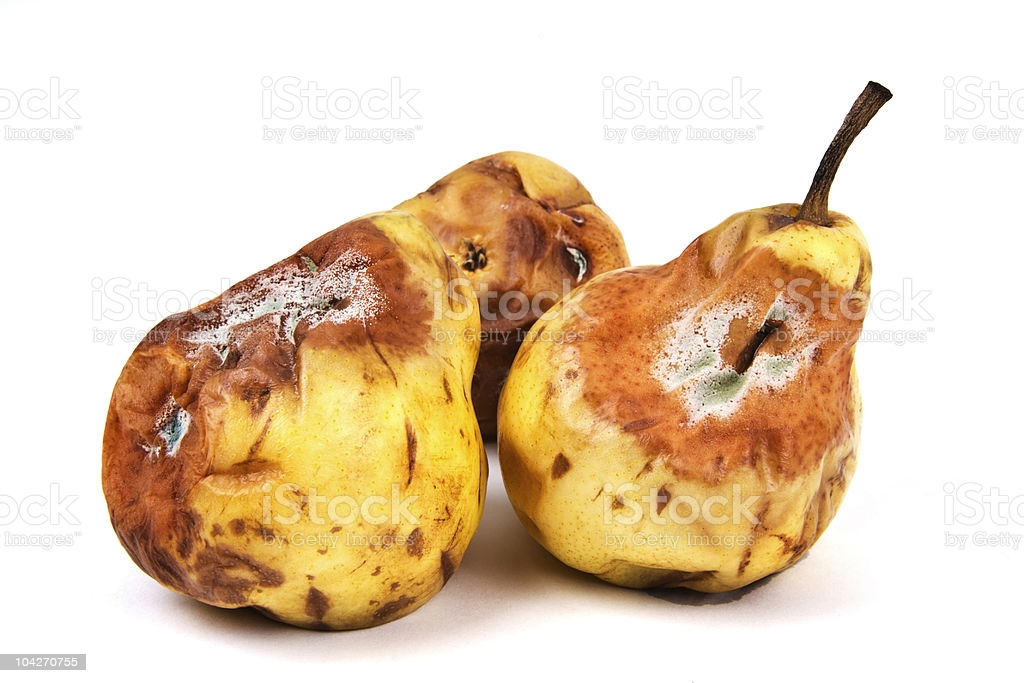pear: (101, 212, 490, 630), (498, 203, 871, 597)
rotten: (584, 248, 865, 481), (162, 243, 394, 362), (145, 395, 203, 459)
